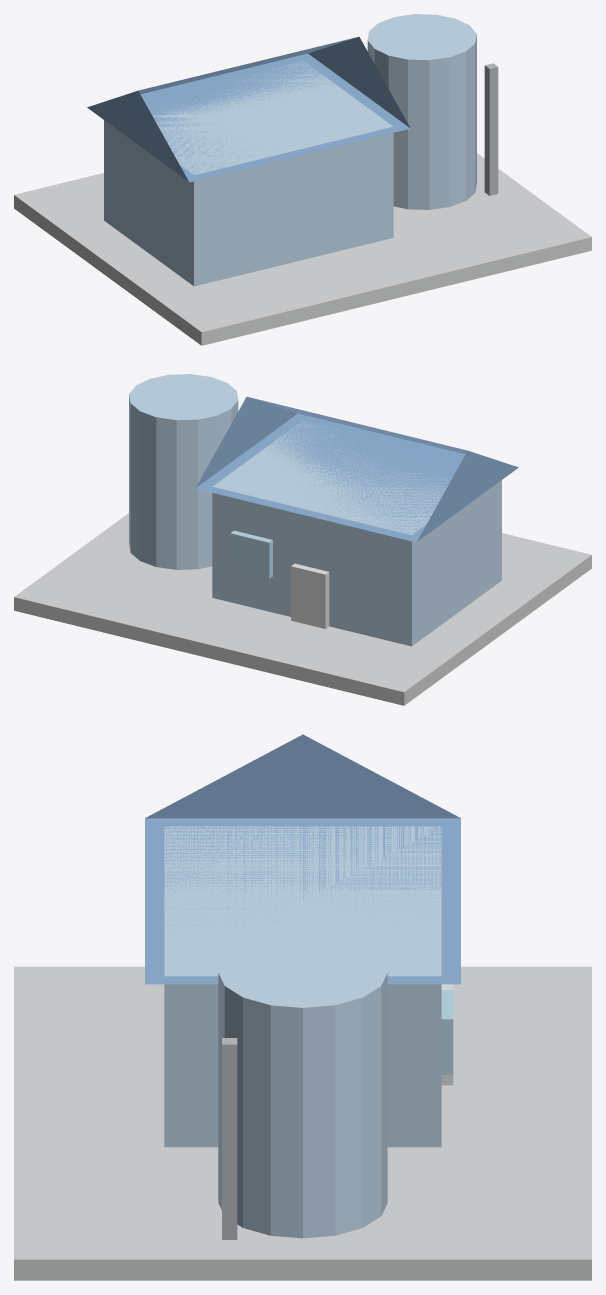
File: water_pump.glb
3 renders of one model, top to bottom at view 1: azimuth 30°, elevation 25°; view 2: azimuth 150°, elevation 25°; view 3: azimuth 270°, elevation 25°, orthographic. The views are drawn at different scales.
Parts seen in each view (by area): view 1: main, base, tank, roof, ladder; view 2: main, base, roof, tank, door, window; view 3: base, main, tank, roof, ladder, window.
Part boxes in pixels (x1=…): main: x1=104, y1=60, x2=393, y2=286; base: x1=14, y1=153, x2=591, y2=345; tank: x1=367, y1=14, x2=476, y2=209; roof: x1=87, y1=36, x2=410, y2=182; ladder: x1=484, y1=63, x2=498, y2=195; main: x1=212, y1=421, x2=501, y2=646; base: x1=14, y1=513, x2=591, y2=705; roof: x1=195, y1=396, x2=518, y2=542; tank: x1=129, y1=374, x2=238, y2=569; door: x1=291, y1=563, x2=329, y2=628; window: x1=230, y1=530, x2=272, y2=578; base: x1=14, y1=966, x2=591, y2=1280; main: x1=164, y1=826, x2=441, y2=1147; tank: x1=218, y1=936, x2=387, y2=1238; roof: x1=145, y1=734, x2=460, y2=984; ladder: x1=222, y1=1038, x2=237, y2=1239; window: x1=441, y1=990, x2=453, y2=1074.
Size of the model in its own units: 1.8 by 0.79 by 1.5.
